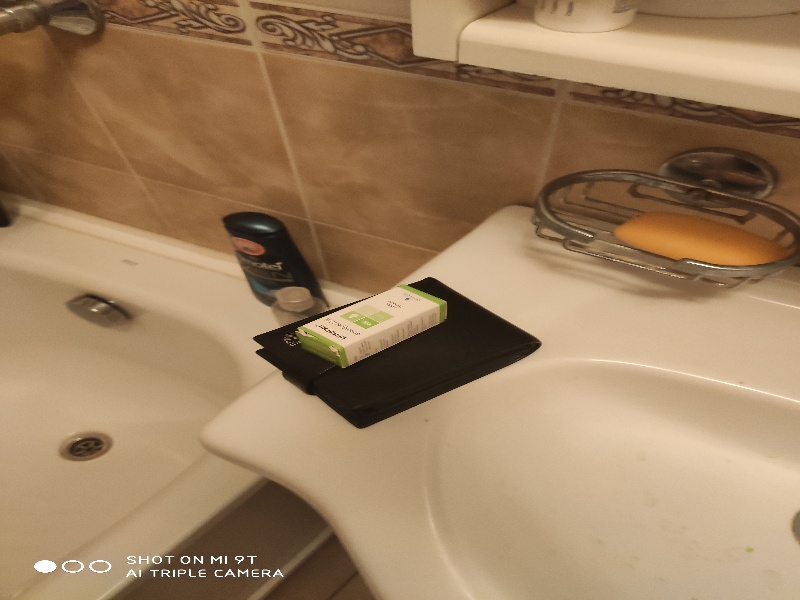ifrin: (278, 278, 455, 368)
wallet: (248, 261, 551, 435)
